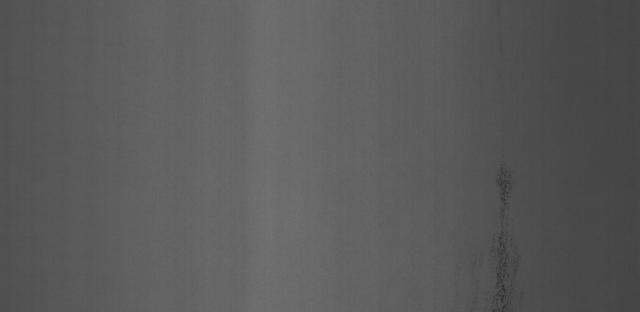inclusion: (466, 156, 542, 308)
